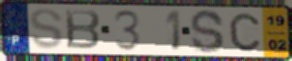1: (164, 9, 182, 53)
3: (113, 9, 142, 52)
B: (64, 8, 103, 51)
C: (227, 12, 262, 53)
S: (189, 8, 226, 55), (28, 7, 65, 51)
